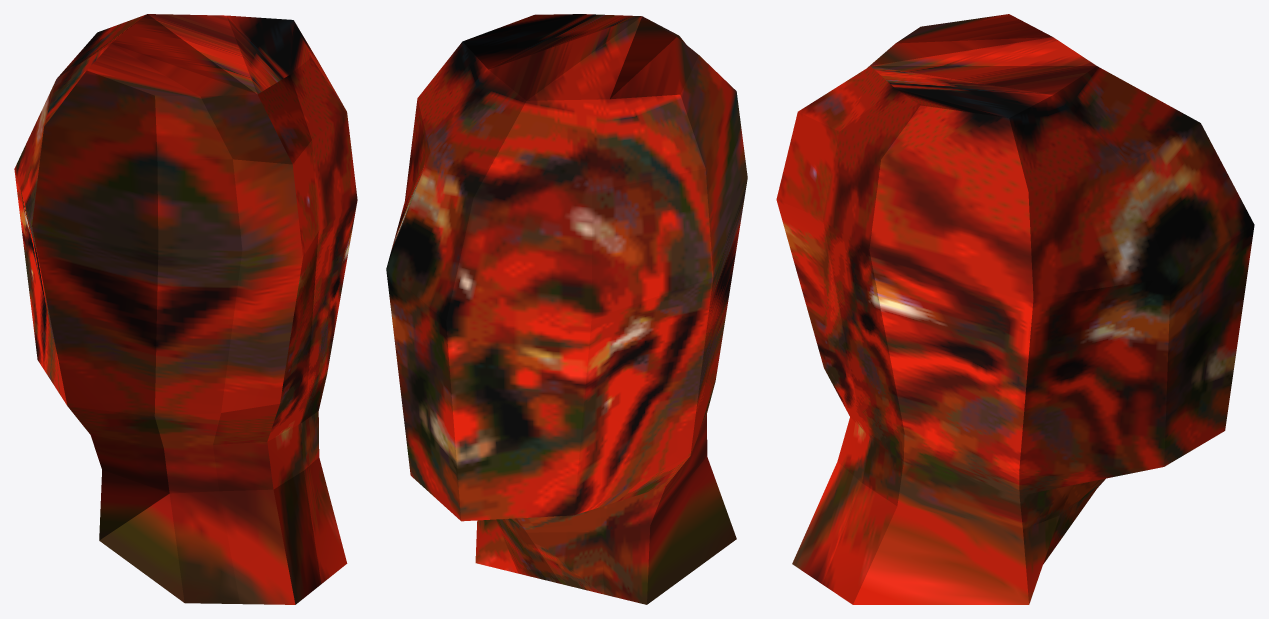
File: Head_Gib.glb
3 renders of one model, left to right at view 1: azimuth 30°, elevation 25°; view 2: azimuth 150°, elevation 25°; view 3: azimuth 270°, elevation 25°, orthographic. The views are drawn at different scales.
Visible parts, largest first — view 1: Head_Gib2; view 2: Head_Gib2; view 3: Head_Gib2.
Boxes of the visible parts, x1,y1,x2,y2 form: Head_Gib2: [14, 14, 357, 604]; Head_Gib2: [386, 14, 747, 604]; Head_Gib2: [776, 14, 1254, 604].
Size of the model in its own units: 0.1798 by 0.2832 by 0.2464.
1 material, 1 textured.
